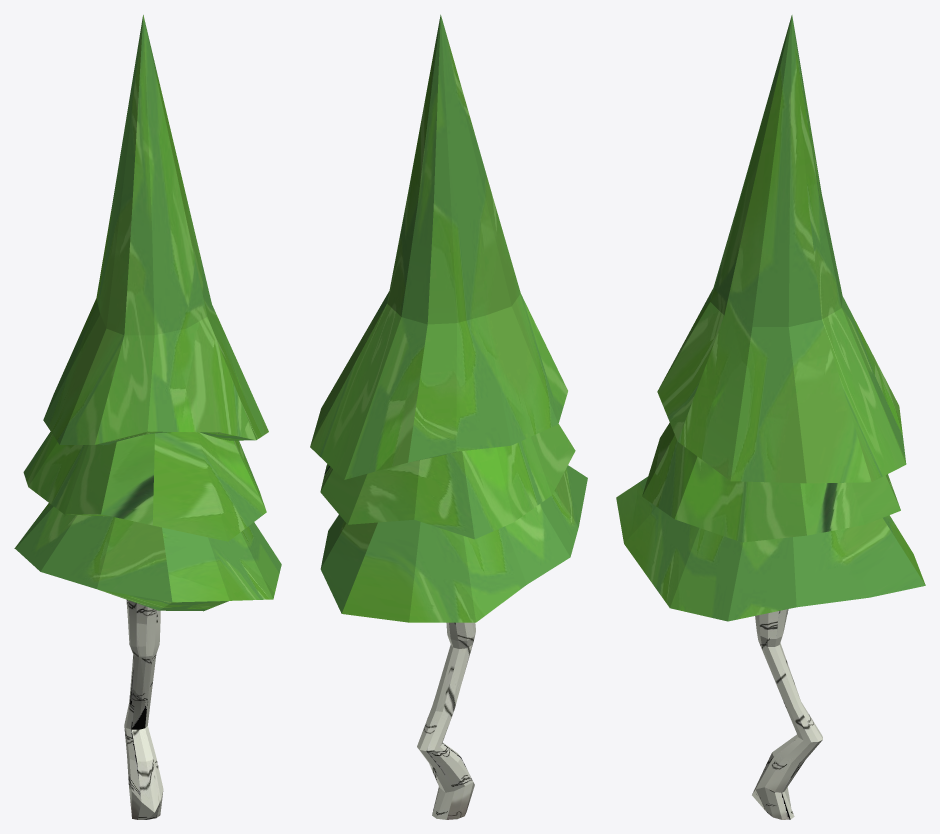
Rendered from дерево3.fbx.
3 renders of one model, left to right at view 1: azimuth 30°, elevation 25°; view 2: azimuth 150°, elevation 25°; view 3: azimuth 270°, elevation 25°, orthographic.
Parts seen in each view (by area): view 1: Объект_Конус; view 2: Объект_Конус; view 3: Объект_Конус.
Boxes of the visible parts, bbox=[...] form: Объект_Конус: bbox=[14, 15, 281, 819]; Объект_Конус: bbox=[310, 14, 587, 819]; Объект_Конус: bbox=[616, 15, 925, 819].
Bounding box in the file's own units: 503 × 1688 × 591.
